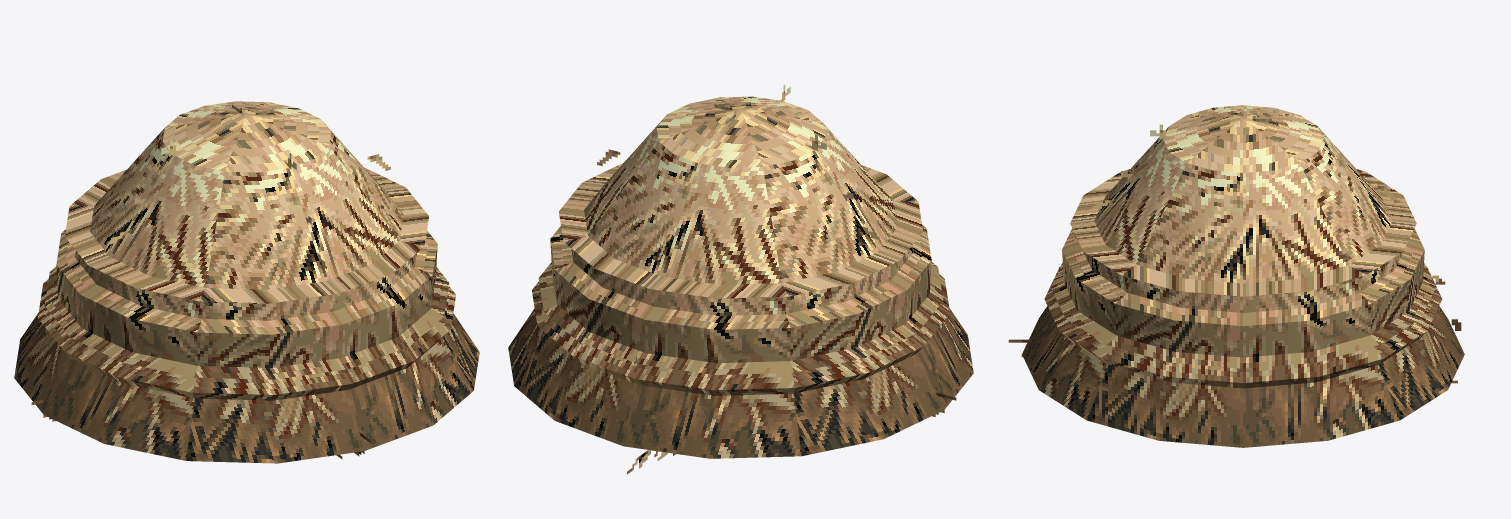
Rendered from haystack.glb.
3 renders of one model, left to right at view 1: azimuth 30°, elevation 25°; view 2: azimuth 150°, elevation 25°; view 3: azimuth 270°, elevation 25°, orthographic. The views are drawn at different scales.
Parts seen in each view (by area): view 1: lathe-212-1; view 2: lathe-212-1; view 3: lathe-212-1.
Boxes of the visible parts, box(x1,y1,x2,y2) form: lathe-212-1: box(14, 101, 479, 463); lathe-212-1: box(508, 84, 973, 474); lathe-212-1: box(1008, 105, 1464, 447).
Size of the model in its own units: 1.92 by 1.21 by 1.92.
Materials: 1 (1 with a texture image).
